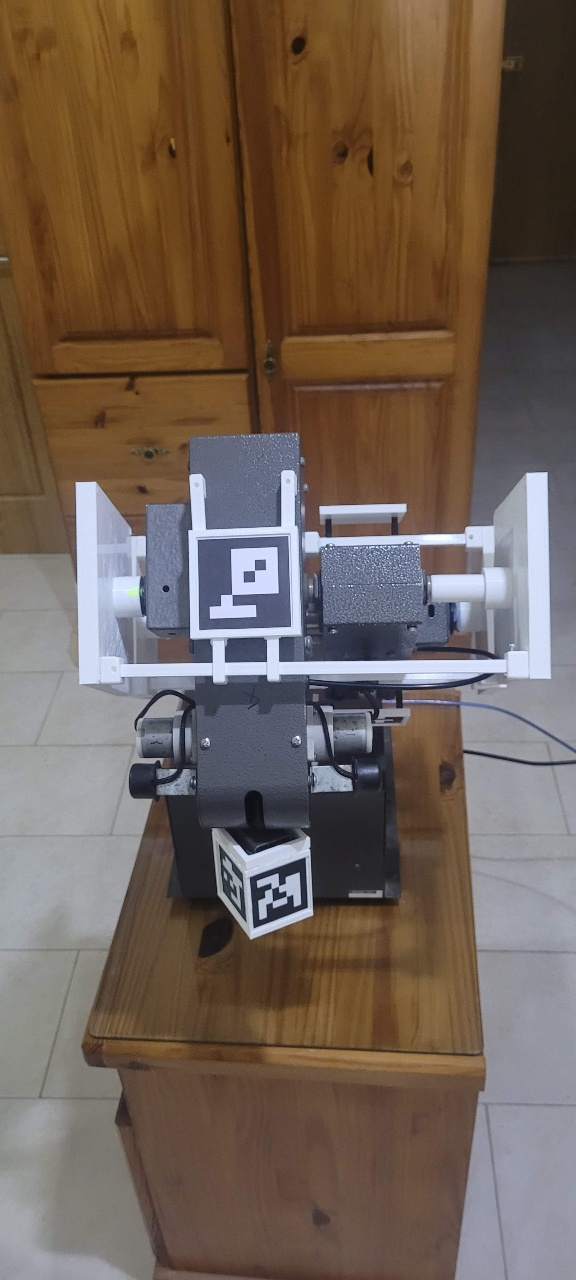Robot: (75, 432, 553, 943)
